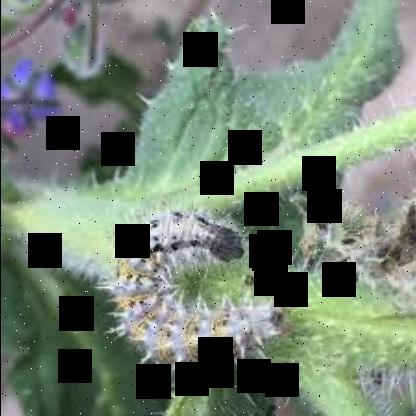oruga: (99, 210, 289, 380)
